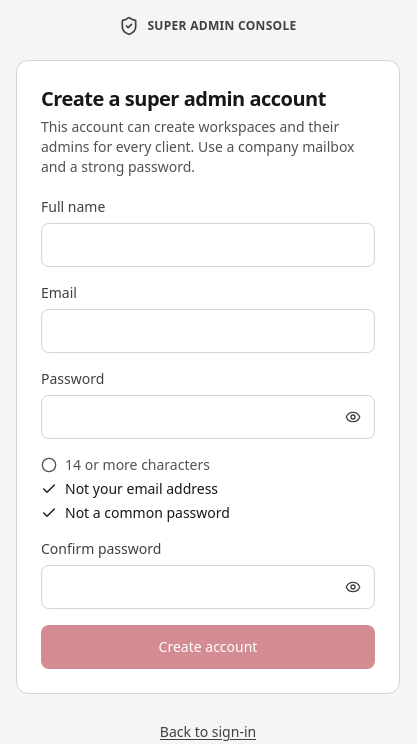
Super admin signup page › shows the server refusal (email already registered) and does not sign in
Expected: the heading "Create a super admin account" is shown, [41,85,375,113]
Type "Olive" into the field labelled "Full name" at coordinates (208, 245), box [41,223,375,267]
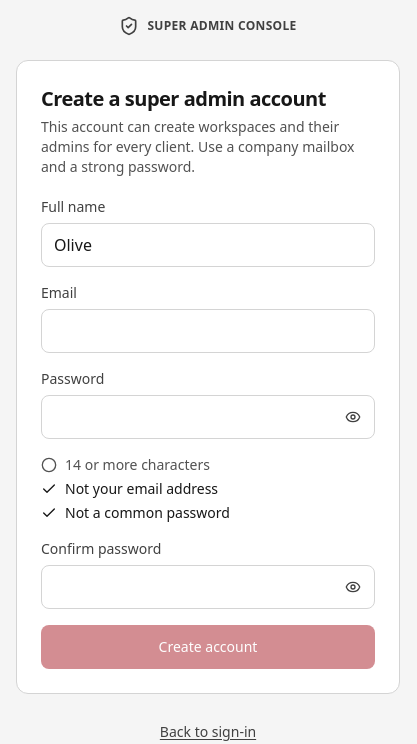
Type "olive@convoypass.test" into the field labelled "Email" at coordinates (208, 331), box [41,309,375,353]
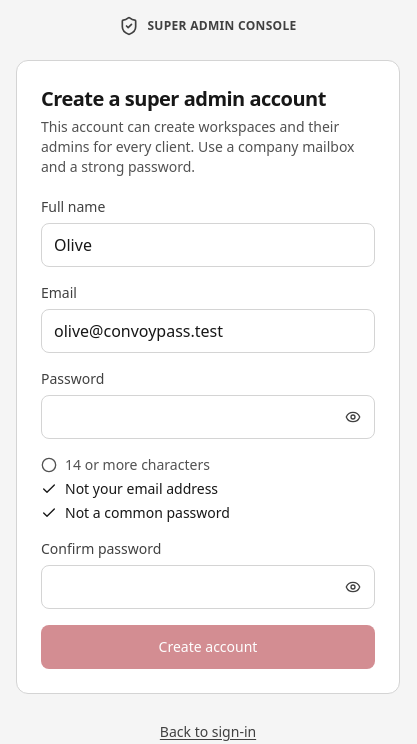
Type "Correct-Horse-Battery-9" into the password field labelled "Password" at coordinates (208, 417), box [41,395,375,439]
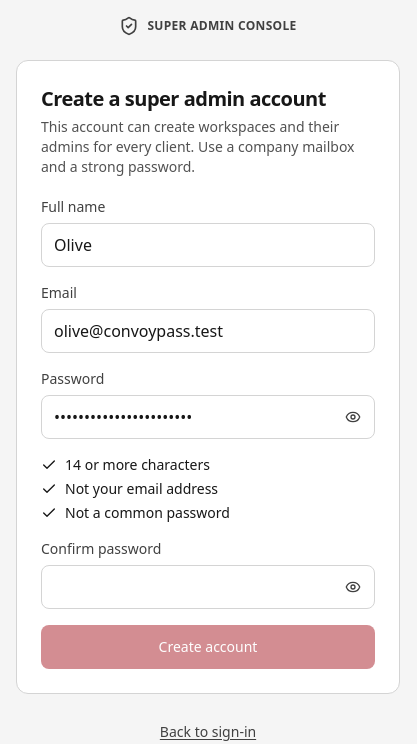
Type "Correct-Horse-Battery-9" into the password field labelled "Confirm password" at coordinates (208, 587), box [41,565,375,609]
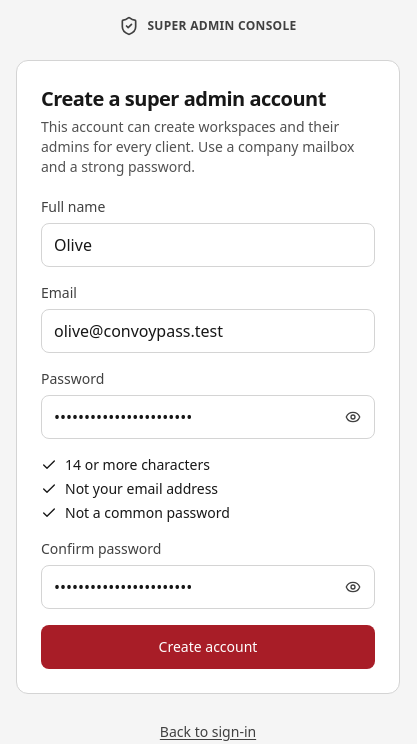
Click the button "Create account" at coordinates (208, 647), box [41,625,375,669]
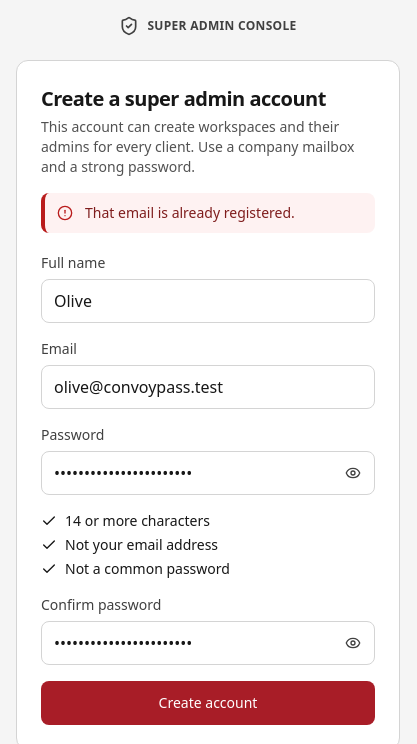
Expected: the message shows "already registered", [85,203,295,222]
